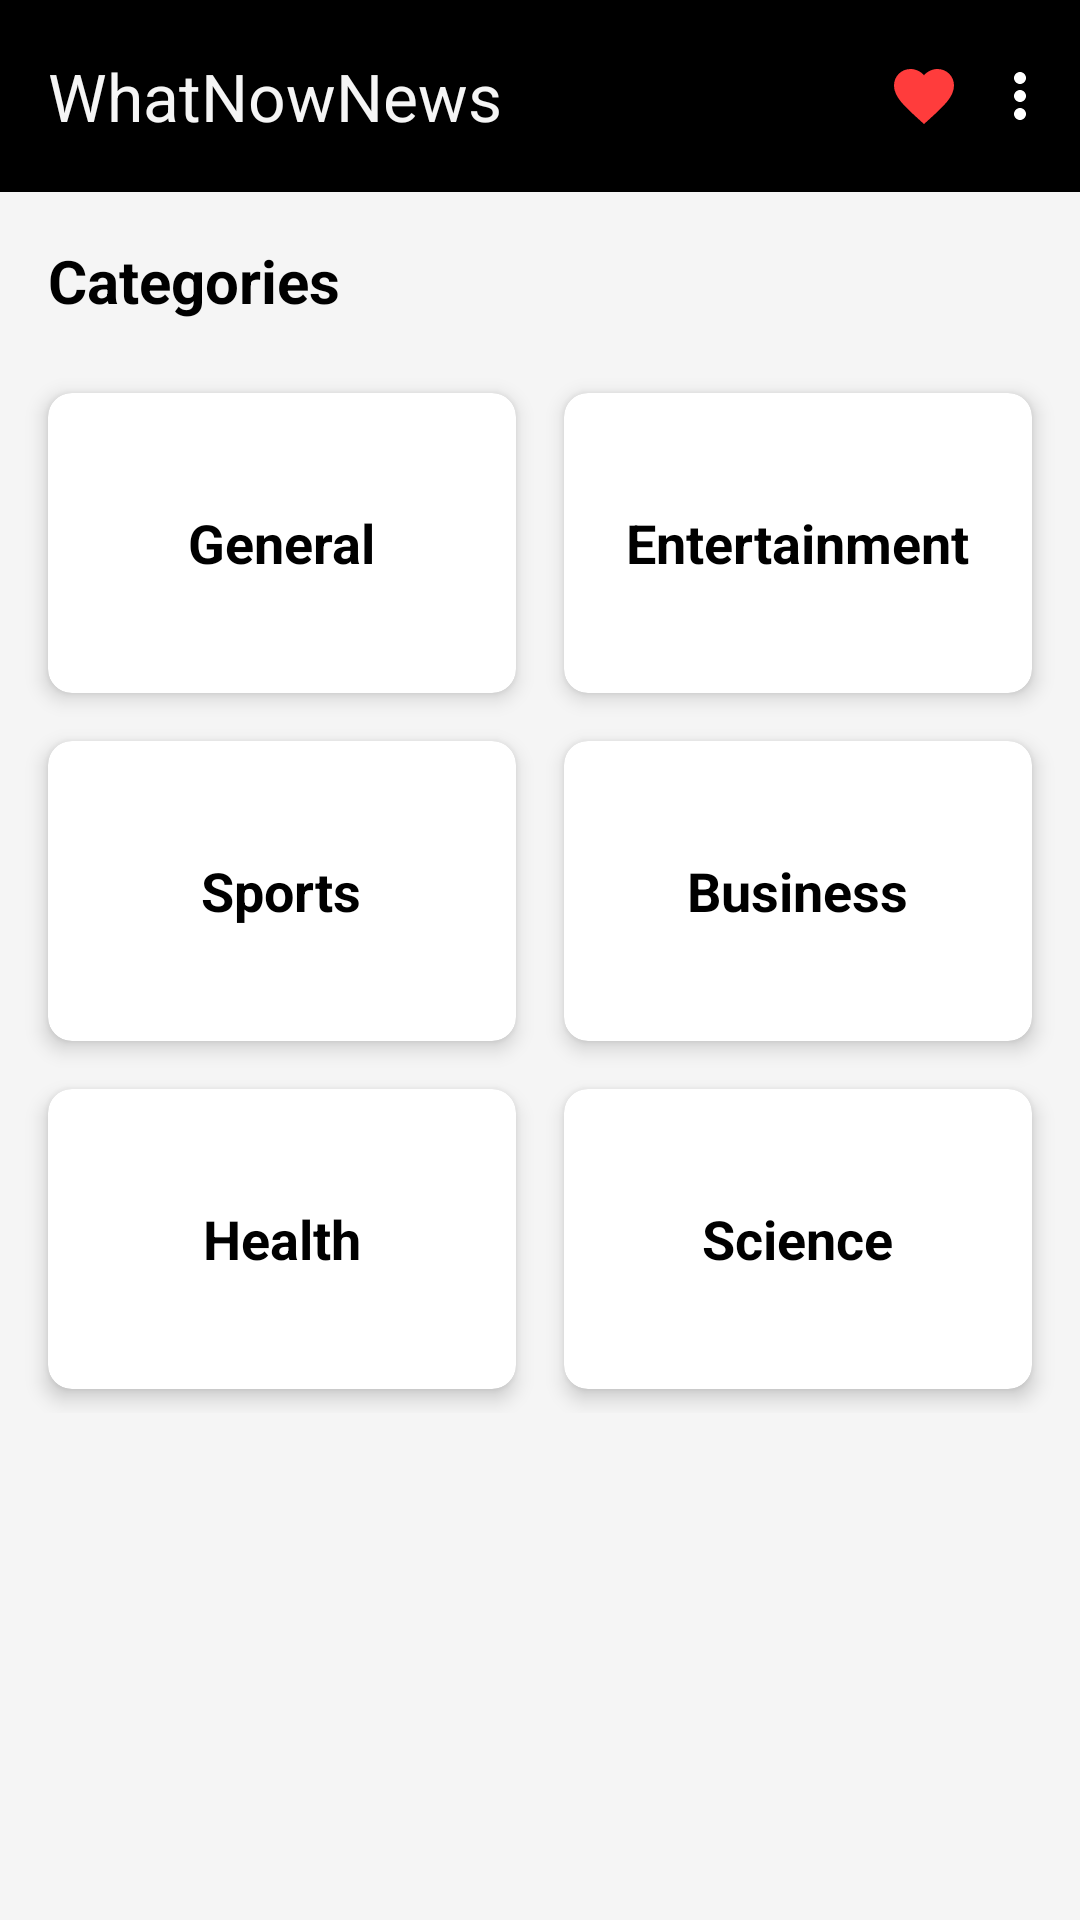

Named icons in this screenshot (1080x1920) and their centers, [x,y]:
favorite: [924,96]
options: [1020,96]
